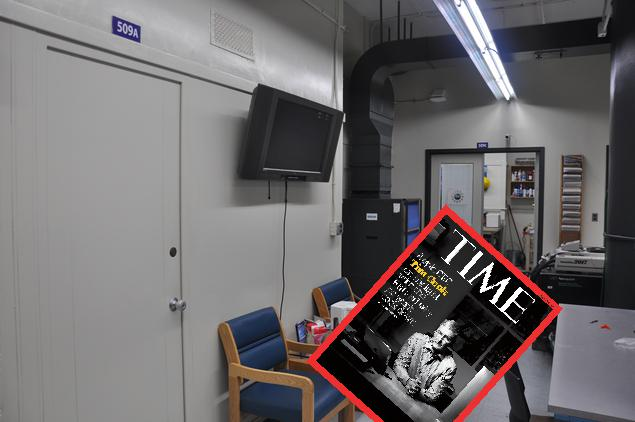times: (297, 202, 568, 422)
